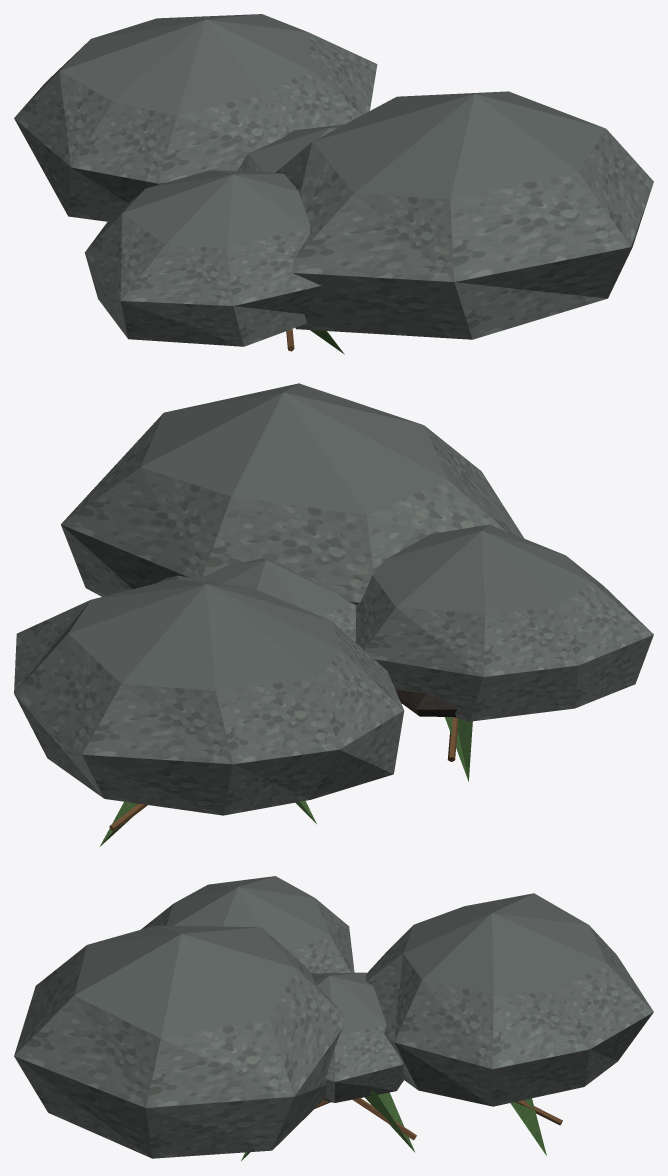
The model's file is en-005_beach_stone_cluster__small.obj.
3 renders of one model, top to bottom at view 1: azimuth 30°, elevation 25°; view 2: azimuth 150°, elevation 25°; view 3: azimuth 270°, elevation 25°, orthographic. The views are drawn at different scales.
Parts seen in each view (by area): view 1: en-005_beach_stone_cluster__small; view 2: en-005_beach_stone_cluster__small; view 3: en-005_beach_stone_cluster__small.
Boxes of the visible parts, box(x1,y1,x2,y2) form: en-005_beach_stone_cluster__small: box(14, 14, 653, 354); en-005_beach_stone_cluster__small: box(14, 383, 653, 846); en-005_beach_stone_cluster__small: box(14, 876, 653, 1160).
Size of the model in its own units: 1.16 by 0.569 by 1.39.
4 materials, 4 textured.
